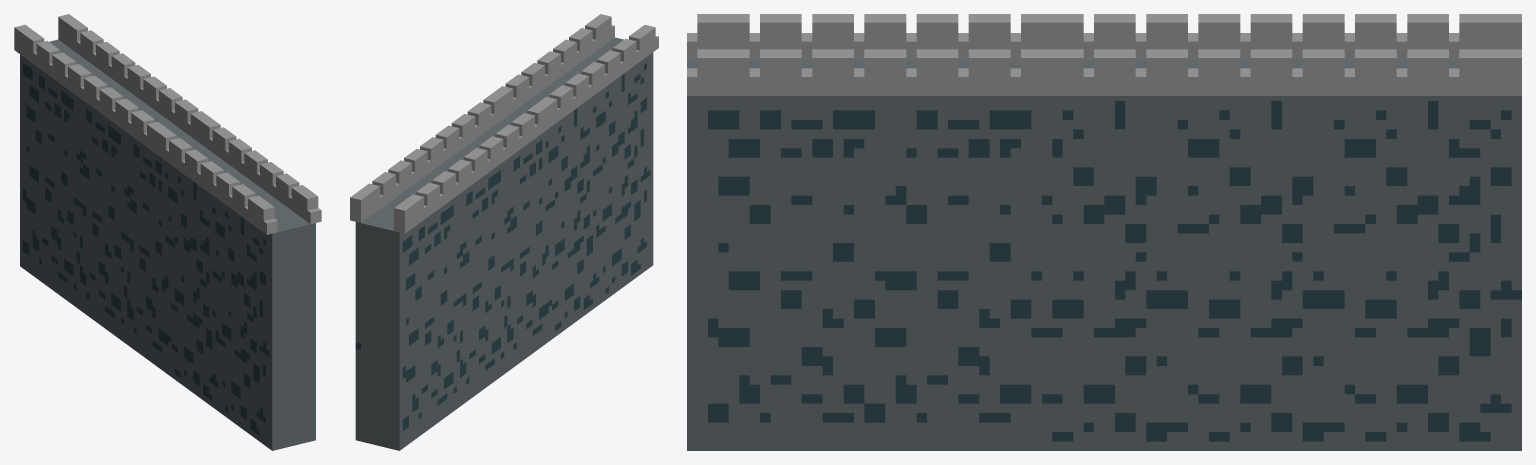
File: wall_straight2.obj
3 renders of one model, left to right at view 1: azimuth 30°, elevation 25°; view 2: azimuth 150°, elevation 25°; view 3: azimuth 270°, elevation 25°, orthographic. The views are drawn at different scales.
Bounding box in the file's own units: 1 × 4.2 × 8.
1 material, 1 textured.
